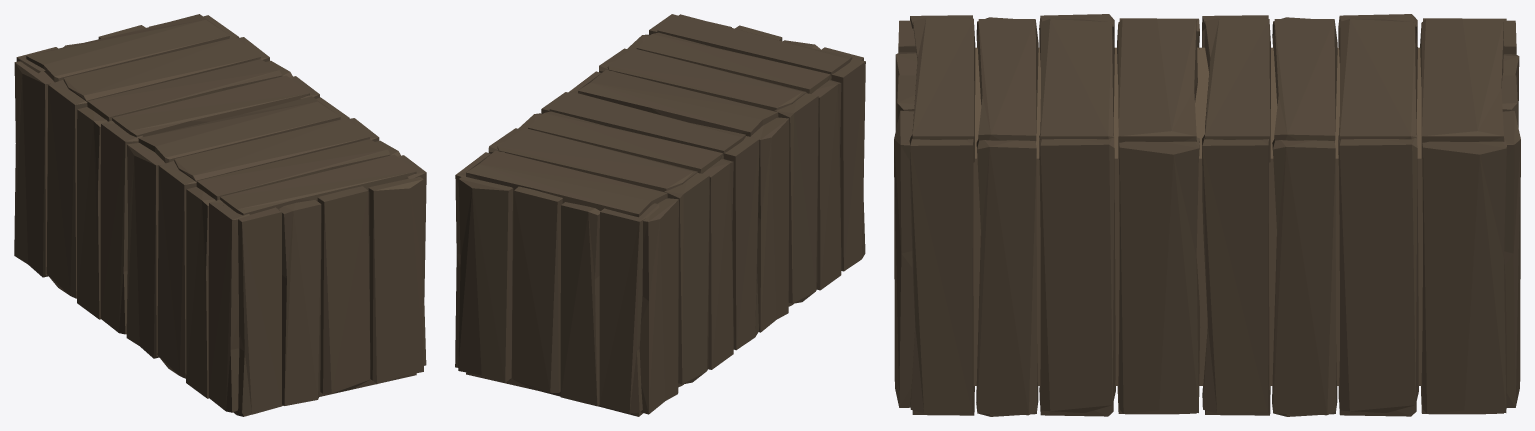
File: Big_ripped_box.glb
The picture shows the model from 3 angles, left to right: view 1: azimuth 30°, elevation 25°; view 2: azimuth 150°, elevation 25°; view 3: azimuth 270°, elevation 25°; orthographic projection. The views are drawn at different scales.
Parts seen in each view (by area): view 1: box6; view 2: box6; view 3: box6.
Boxes of the visible parts, left/top/right/bottom form: box6: left=14, top=14, right=426, bottom=416; box6: left=455, top=14, right=865, bottom=416; box6: left=894, top=14, right=1520, bottom=416.
Bounding box in the file's own units: 0.8631 × 0.8631 × 1.73.
